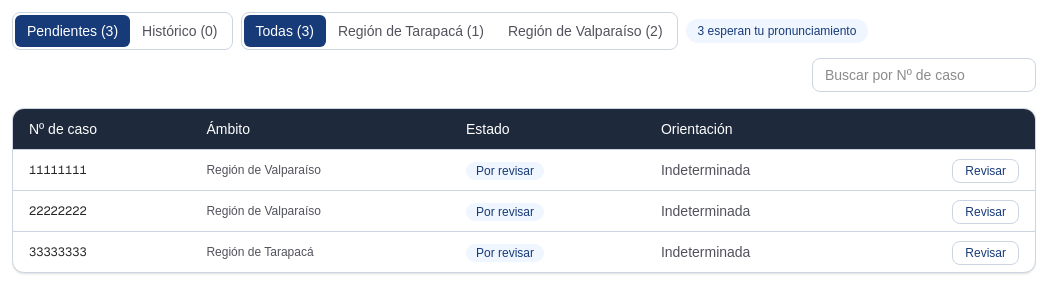
bandeja de un médico con dos ámbitos › el selector cuenta por ámbito y filtra, sin volver a pedir nada
Expected: the button "Pendientes (3)" is shown, top-left (15, 15), bottom-right (130, 47)
Click the button "Región de Tarapacá (1)".
click(411, 31)  # box top-left (326, 15), bottom-right (496, 47)
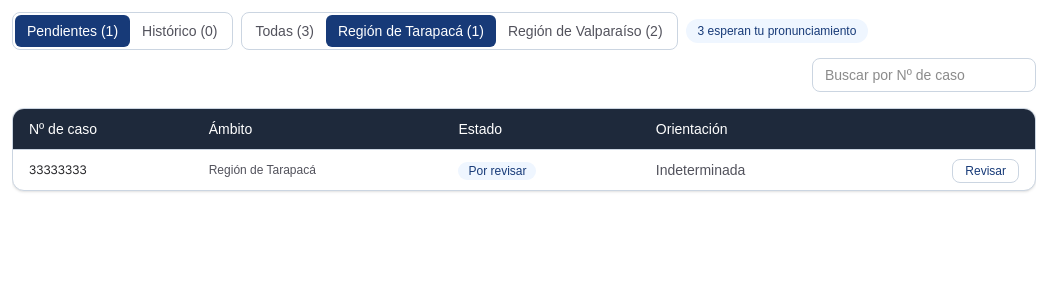
Expected: the text "33333333" is shown, top-left (13, 150), bottom-right (193, 190)
Result: the text "11111111" is gone
Click the button "Todas (3)".
click(285, 31)  # box top-left (244, 15), bottom-right (326, 47)
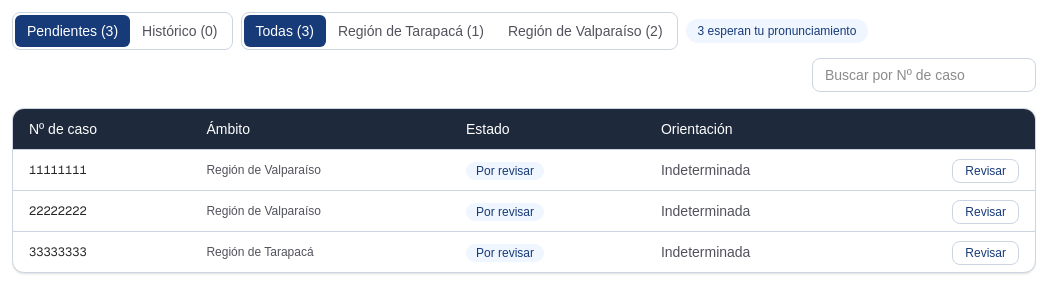
Expected: the text "33333333" is shown, top-left (13, 232), bottom-right (190, 272)
Result: the text "11111111" is shown at top-left (13, 150), bottom-right (190, 190)
